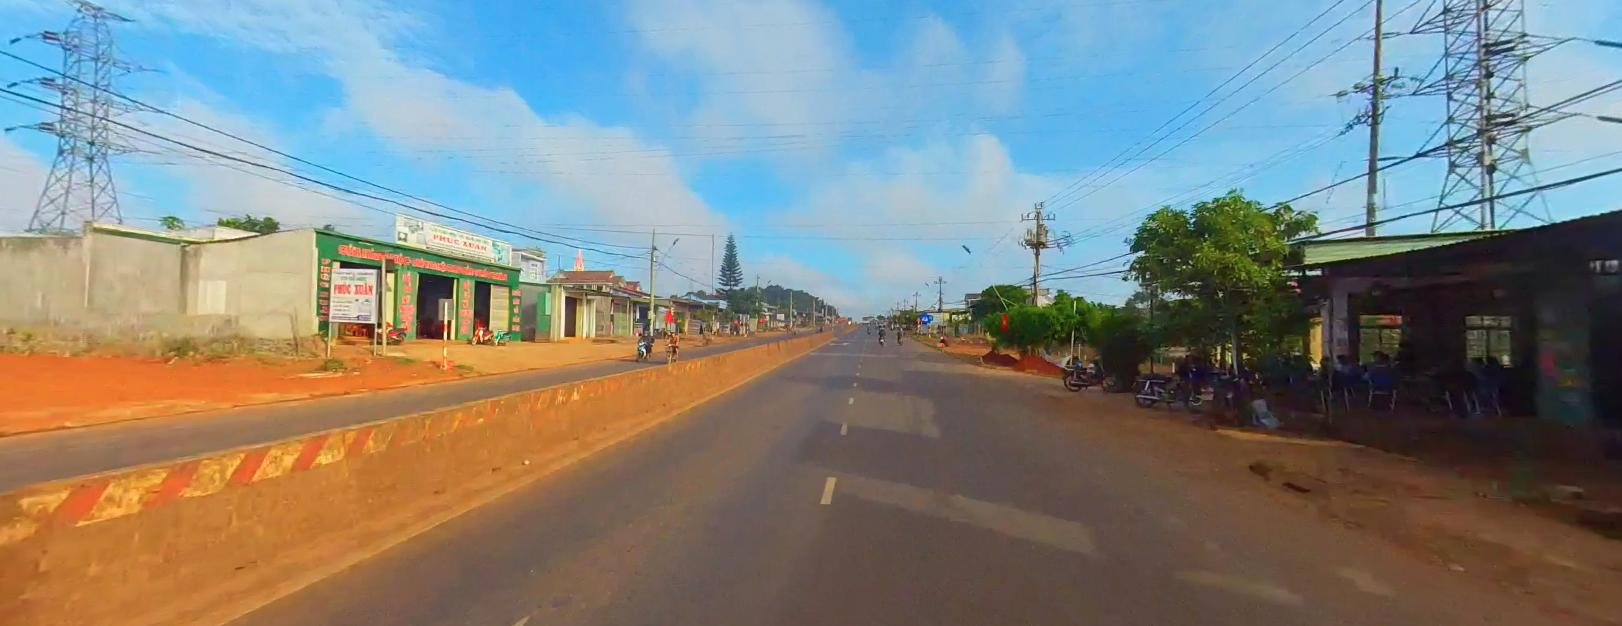Nguy hiem: (915, 315, 921, 320)
